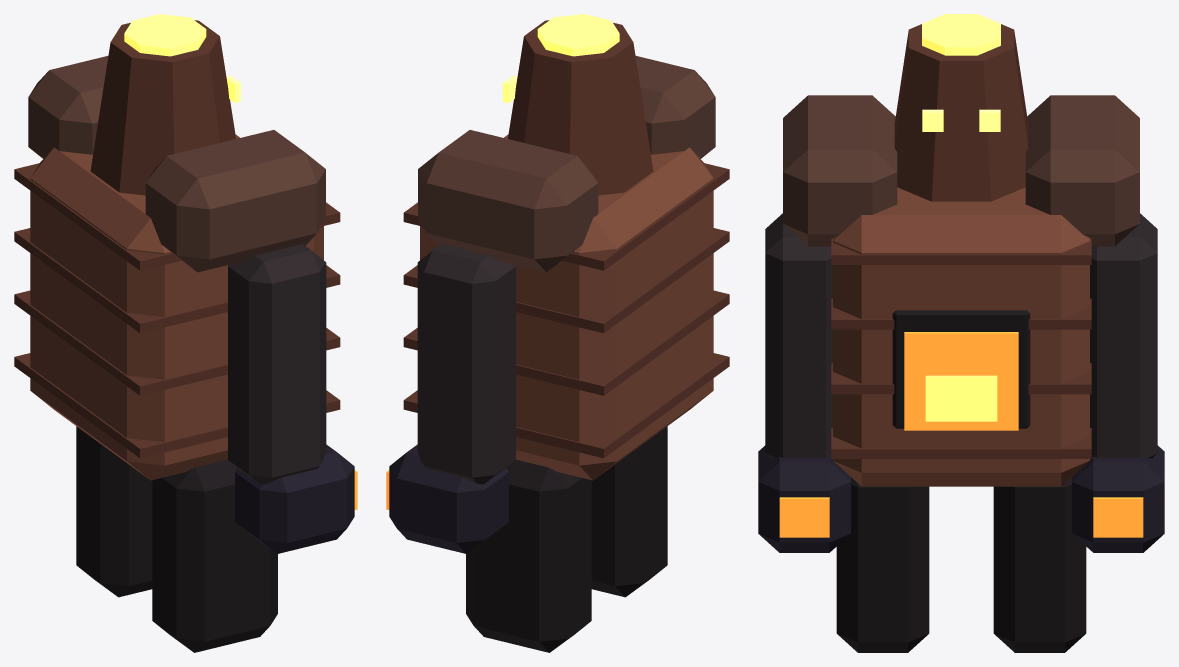
File: kiln.glb
3 views of the same model, side by side, from view 1: azimuth 30°, elevation 25°; view 2: azimuth 150°, elevation 25°; view 3: azimuth 270°, elevation 25° (orthographic). The views are drawn at different scales.
Parts seen in each view (by area): view 1: kiln; view 2: kiln; view 3: kiln.
Part boxes in pixels (x1,y1,x2,y2): kiln: [14, 14, 357, 652]; kiln: [386, 14, 729, 652]; kiln: [758, 14, 1164, 652].
Size of the model in its own units: 0.69 by 1.86 by 1.14.
